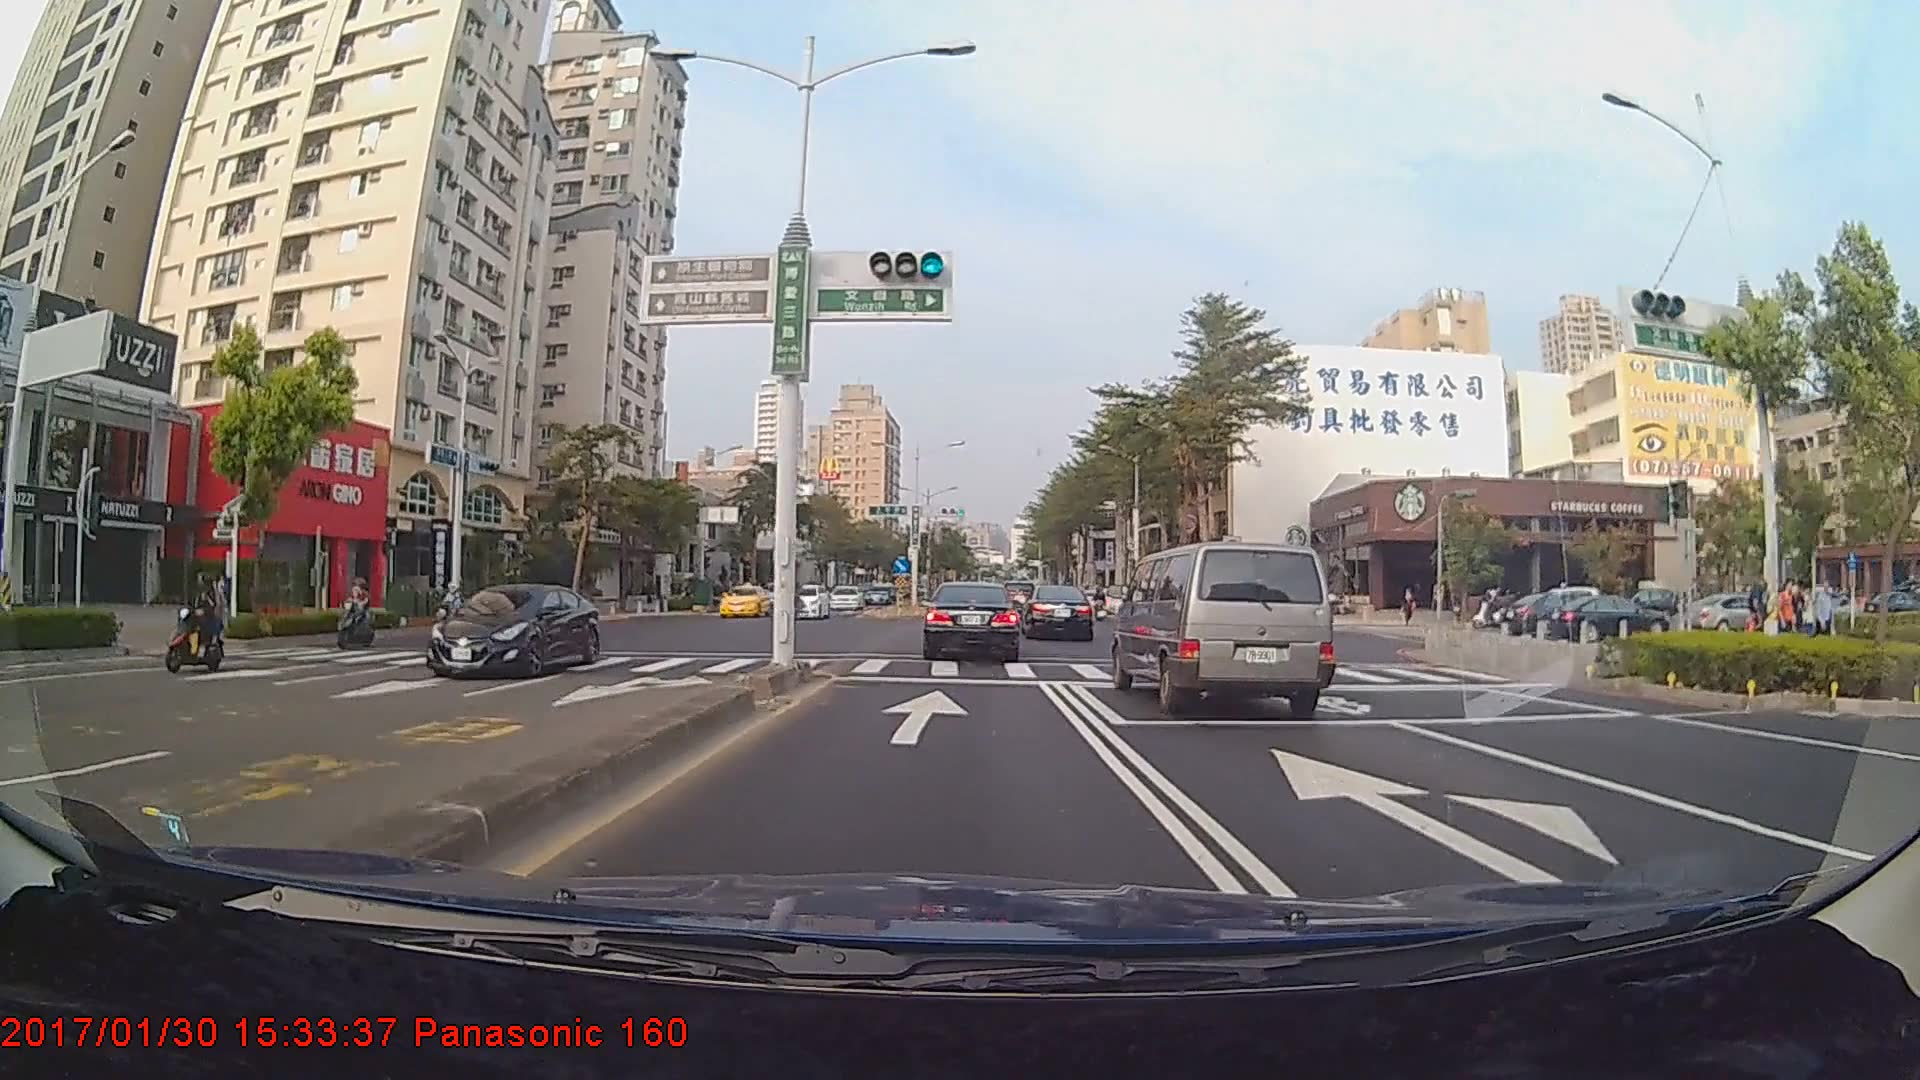pedestrian: (1748, 566, 1773, 657), (1775, 581, 1798, 649), (1818, 581, 1838, 645)
rider: (153, 567, 236, 674), (336, 578, 382, 654)
vehicle: (1113, 537, 1336, 713), (423, 581, 603, 677), (920, 582, 1021, 660), (1546, 589, 1677, 646), (1503, 586, 1609, 641), (1018, 584, 1094, 642), (716, 580, 771, 616), (778, 583, 830, 621), (826, 584, 862, 611)
